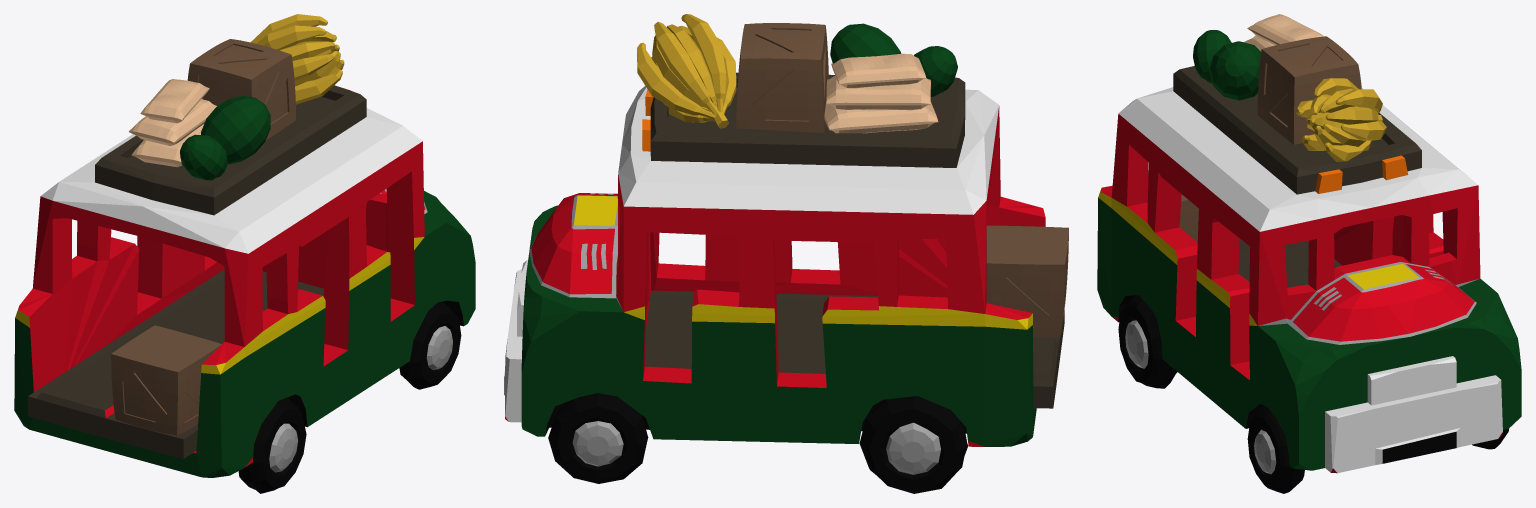
Rendered from Chiva.gltf.
3 views of the same model, side by side, from view 1: azimuth 30°, elevation 25°; view 2: azimuth 150°, elevation 25°; view 3: azimuth 270°, elevation 25° (orthographic). The views are drawn at different scales.
Parts seen in each view (by area): view 1: Chiva; view 2: Chiva; view 3: Chiva.
Part boxes in pixels (x1=…): Chiva: x1=14, y1=14, x2=475, y2=493; Chiva: x1=504, y1=14, x2=1068, y2=493; Chiva: x1=1097, y1=14, x2=1521, y2=493.
Size of the model in its own units: 1.72 by 1.32 by 1.4.
